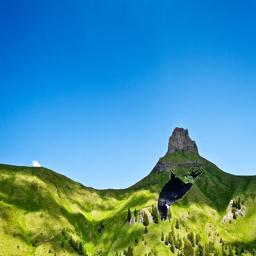Crow: (157, 165, 204, 221)
